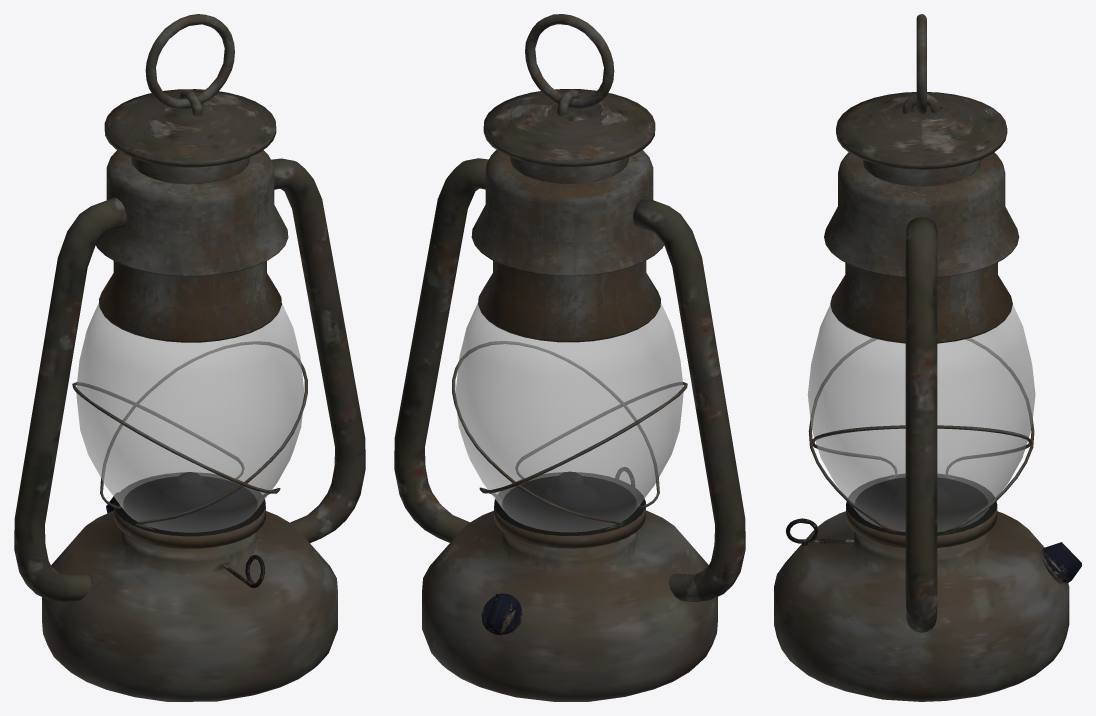
Rendered from obj_kerosene_lamp.glb.
The picture shows the model from 3 angles, left to right: view 1: azimuth 30°, elevation 25°; view 2: azimuth 150°, elevation 25°; view 3: azimuth 270°, elevation 25°; orthographic projection.
Parts seen in each view (by area): view 1: defaultMaterial; view 2: defaultMaterial; view 3: defaultMaterial.
Boxes of the visible parts, x1=… form: defaultMaterial: x1=14, y1=14, x2=365, y2=701; defaultMaterial: x1=394, y1=14, x2=745, y2=701; defaultMaterial: x1=774, y1=14, x2=1081, y2=701.
Size of the model in its own units: 0.2582 by 0.45 by 0.199.
Materials: 14 (14 with a texture image).
